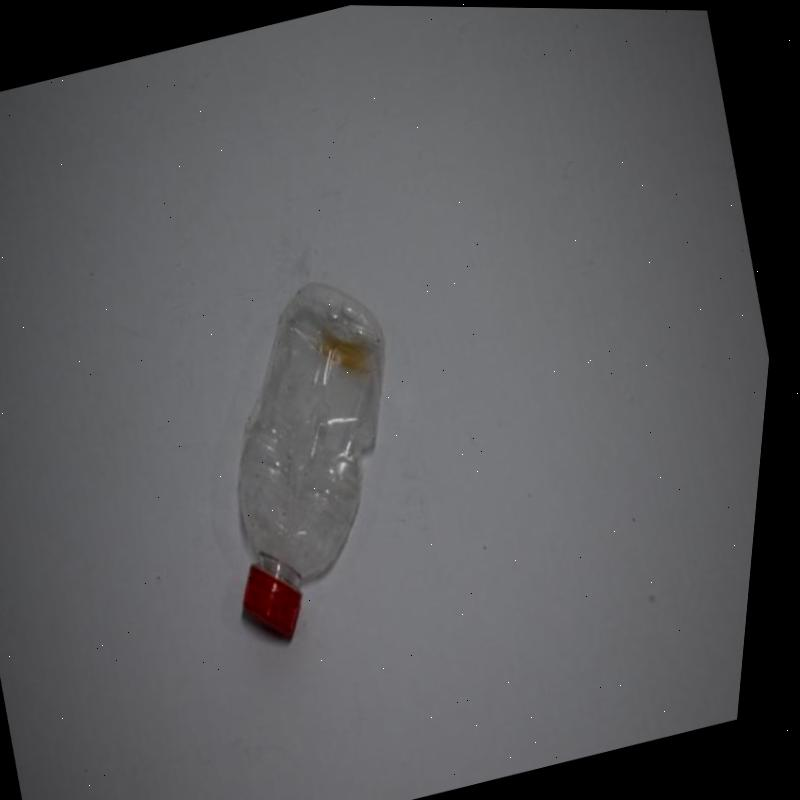botella: (171, 265, 468, 653)
